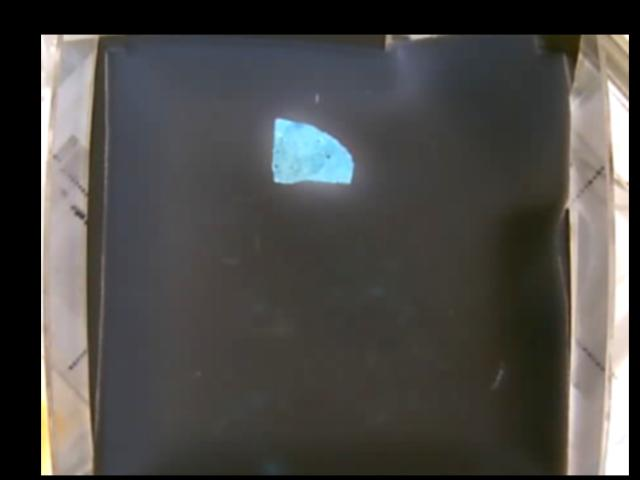Brisk: (269, 115, 357, 186)
